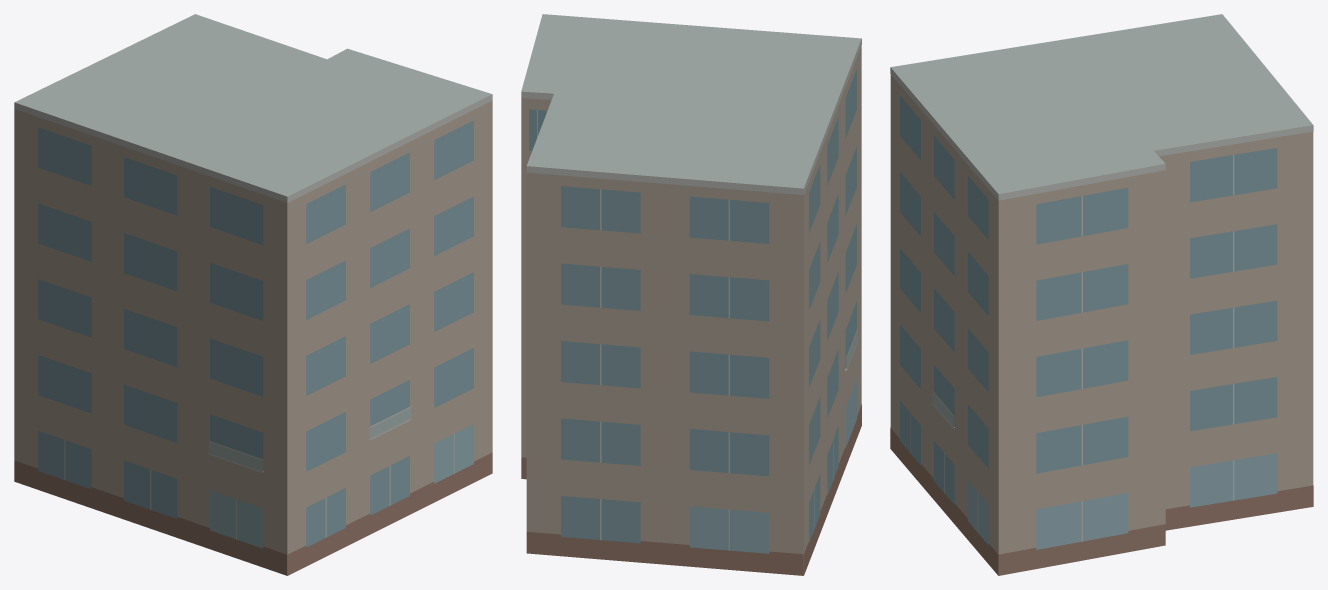
The model's file is survey-upis-32761750.glb.
The picture shows the model from 3 angles, left to right: view 1: azimuth 30°, elevation 25°; view 2: azimuth 150°, elevation 25°; view 3: azimuth 270°, elevation 25°; orthographic projection. The views are drawn at different scales.
Visible parts, largest first — view 1: survey-upis-32761750.tmp; view 2: survey-upis-32761750.tmp; view 3: survey-upis-32761750.tmp.
Boxes of the visible parts, x1,y1,x2,y2 form: survey-upis-32761750.tmp: (14, 14, 492, 575); survey-upis-32761750.tmp: (521, 14, 861, 575); survey-upis-32761750.tmp: (890, 14, 1313, 575).
Size of the model in its own units: 14.75 by 14.55 by 14.63.
